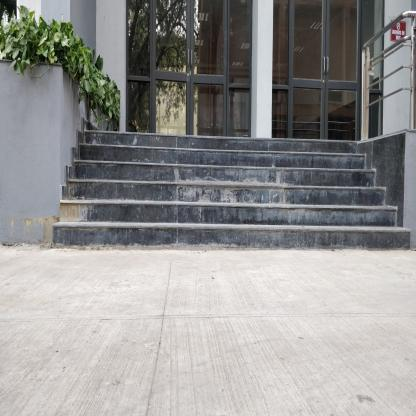stairs: (81, 134, 367, 258)
